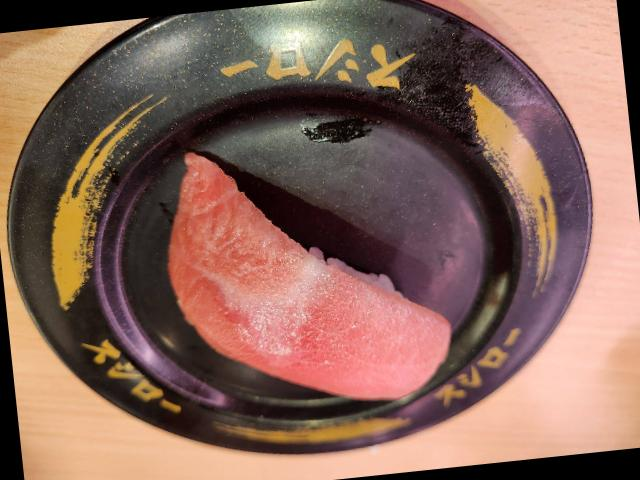jangold: (33, 0, 598, 464)
